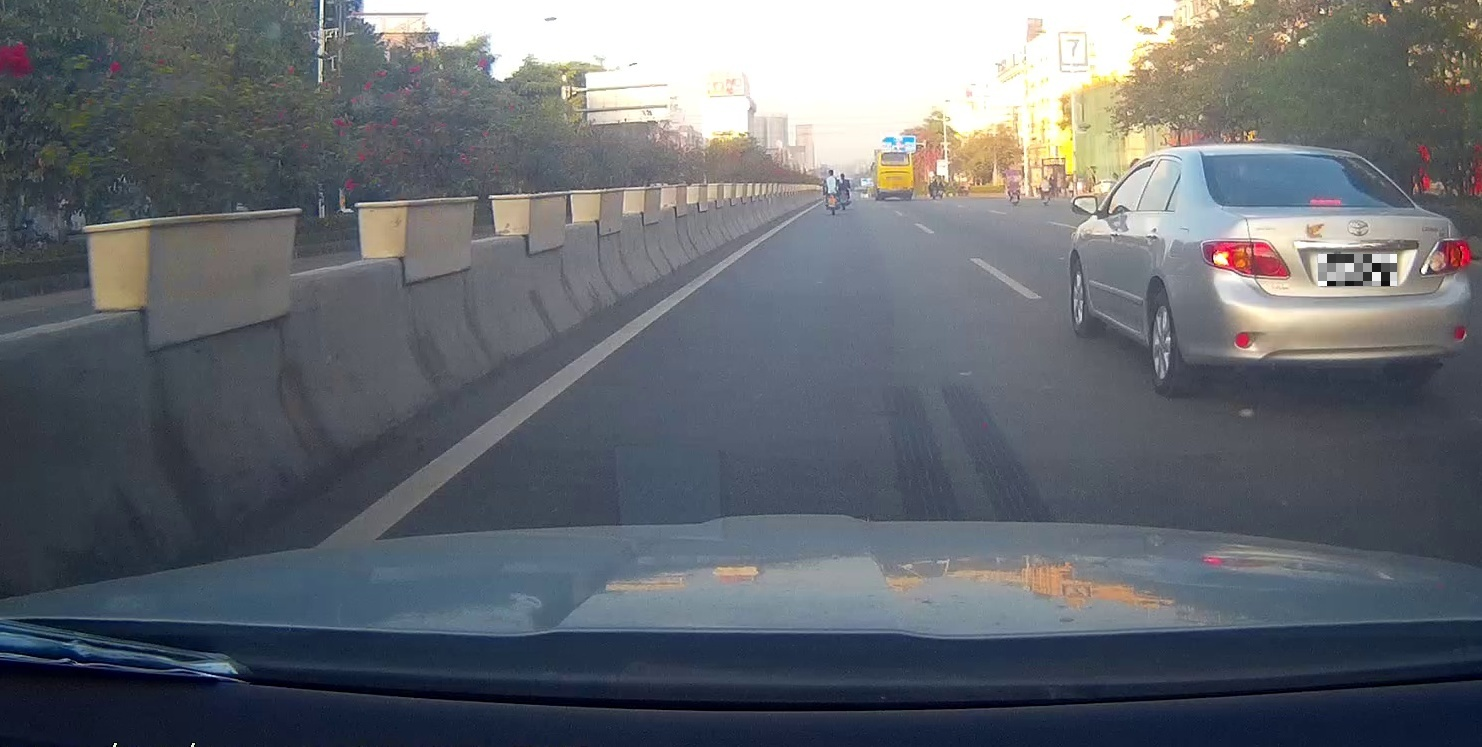L_light: (1199, 238, 1291, 280)
R_light: (1420, 237, 1472, 278)
T_light: (1310, 199, 1341, 207)
day-left: (1193, 142, 1473, 398)
plate_1: (1318, 254, 1397, 286)
